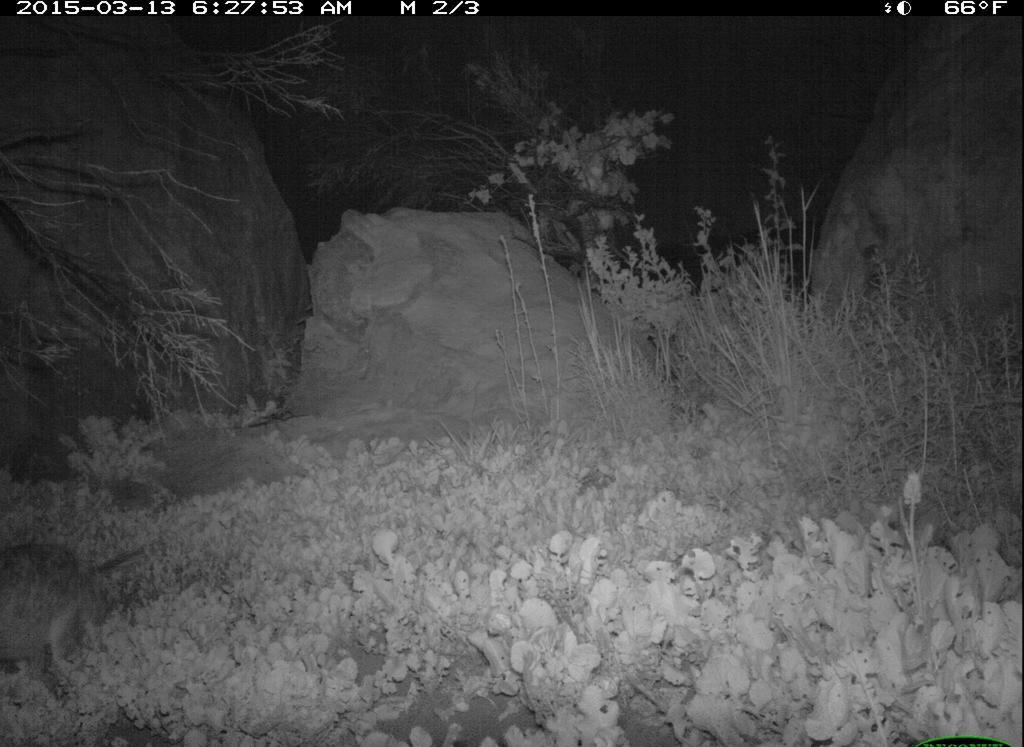rabbit: (9, 520, 137, 707)
